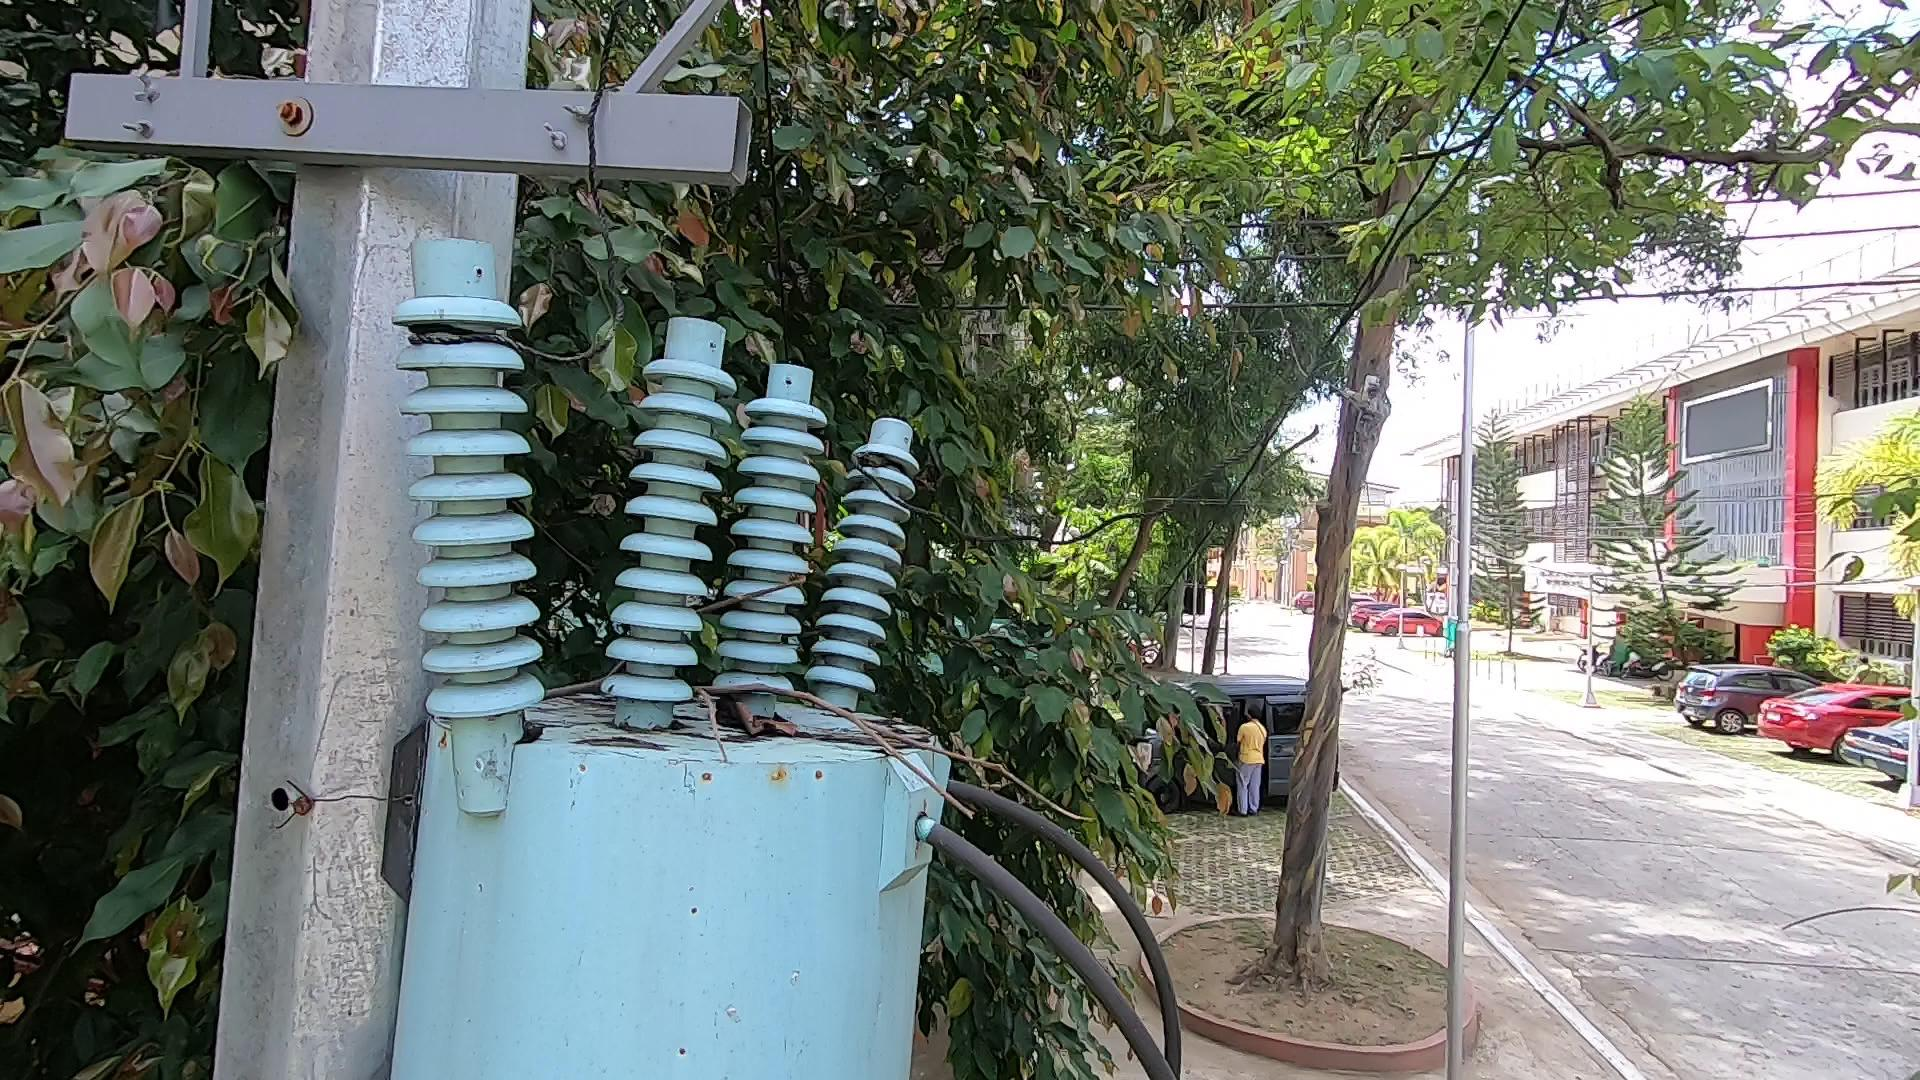leaf: (698, 673, 796, 750)
tree branch: (501, 632, 1095, 857)
